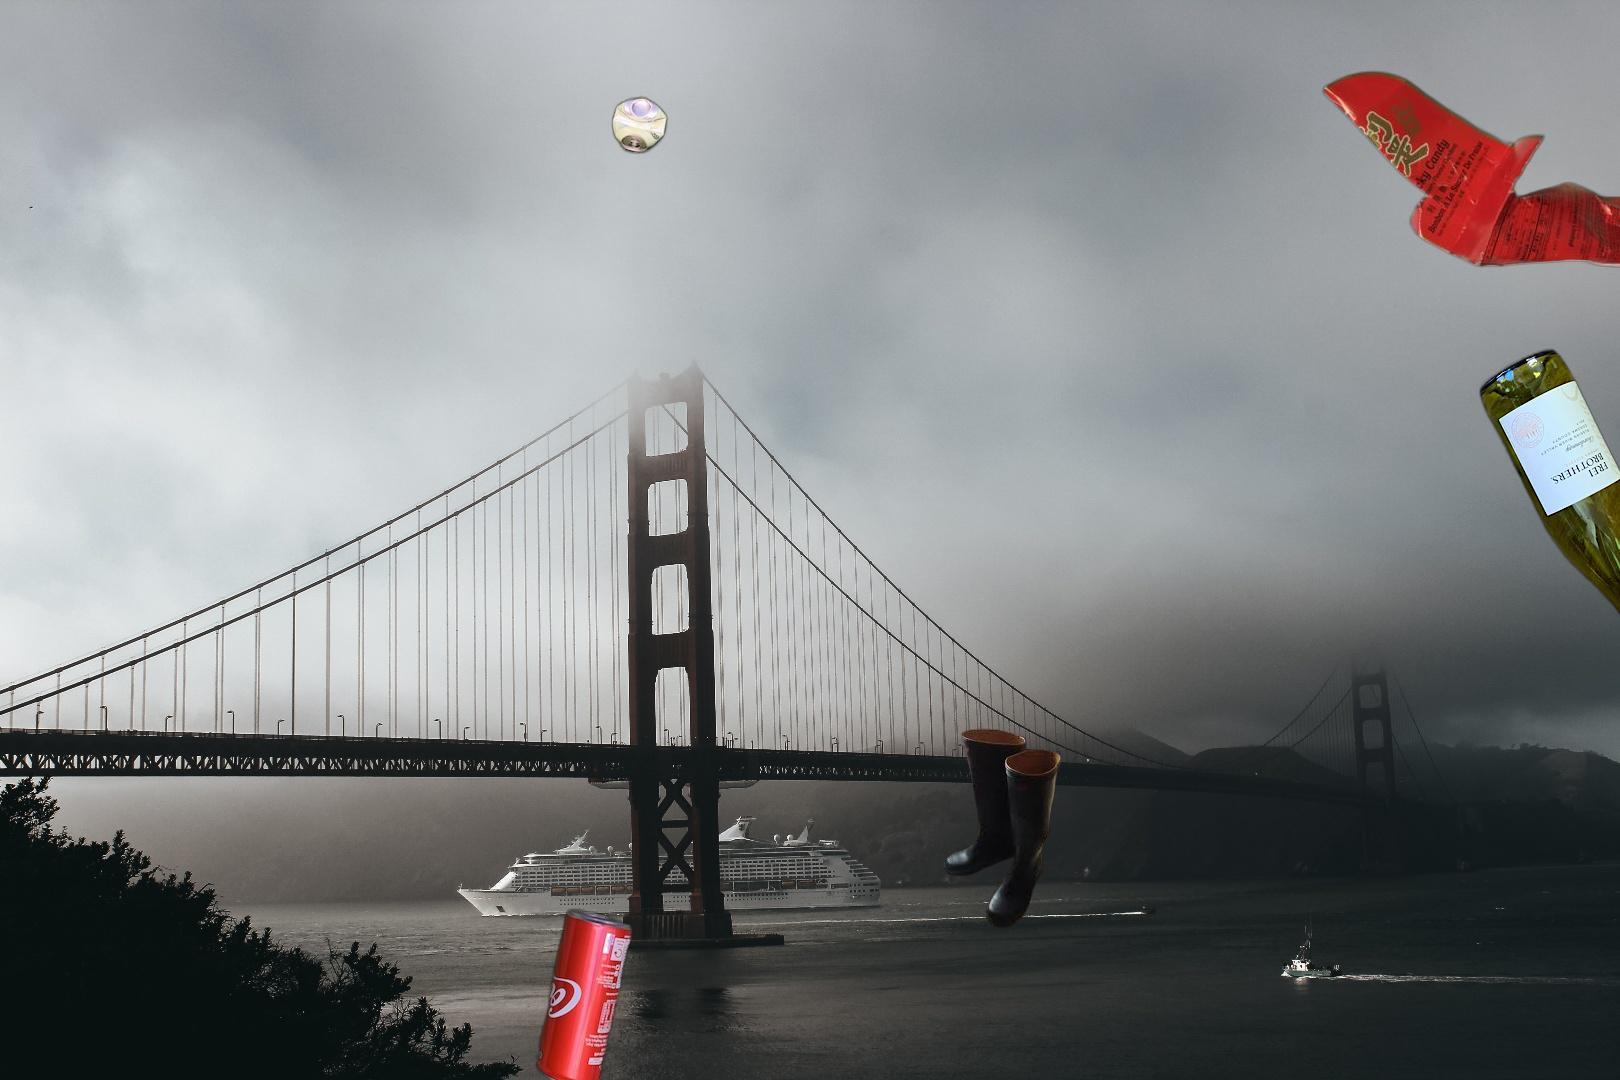glass: (1477, 344, 1620, 693)
metal-cans: (532, 903, 636, 1080), (607, 90, 673, 158)
paper: (1317, 67, 1620, 271)
shoes: (940, 726, 1064, 931)
